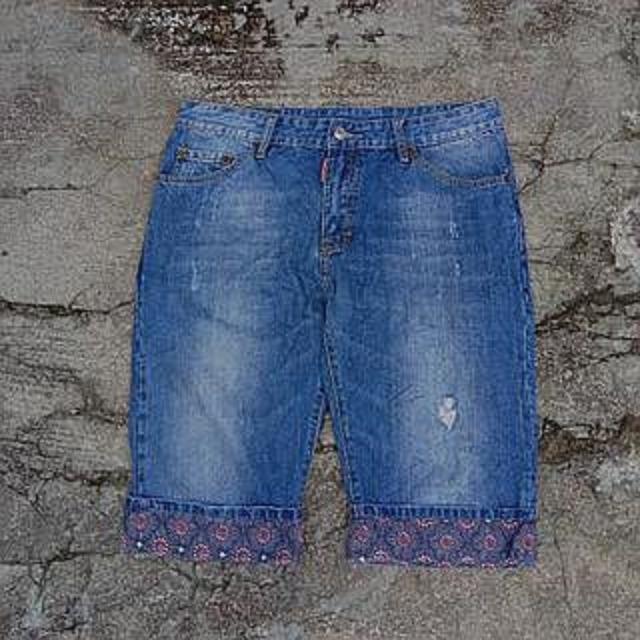TROUSER: (110, 91, 553, 587)
